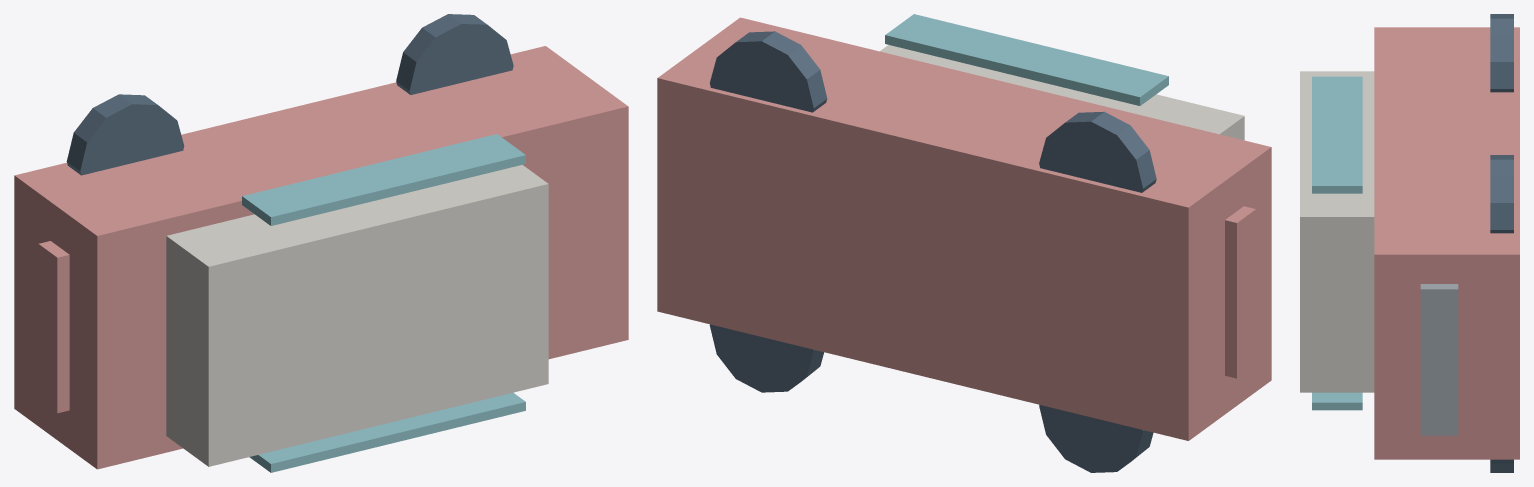
File: city_bus.glb
3 views of the same model, side by side, from view 1: azimuth 30°, elevation 25°; view 2: azimuth 150°, elevation 25°; view 3: azimuth 270°, elevation 25° (orthographic). The views are drawn at different scales.
Parts seen in each view (by area): view 1: salmon, white, glass, dark; view 2: salmon, dark, glass, white; view 3: salmon, white, glass, metal2, dark.
Part boxes in pixels (left/top/right/bottom): salmon: left=14, top=46, right=628, bottom=469; white: left=166, top=165, right=548, bottom=466; glass: left=242, top=134, right=525, bottom=472; dark: left=66, top=14, right=513, bottom=175; salmon: left=657, top=17, right=1271, bottom=440; dark: left=709, top=31, right=1156, bottom=472; glass: left=885, top=14, right=1168, bottom=105; white: left=880, top=45, right=1244, bottom=140; salmon: left=1374, top=27, right=1519, bottom=459; white: left=1300, top=71, right=1374, bottom=392; glass: left=1312, top=76, right=1362, bottom=410; metal2: left=1420, top=284, right=1458, bottom=435; dark: left=1490, top=14, right=1513, bottom=472.
Size of the model in its own units: 5.23 by 3.16 by 2.04.
